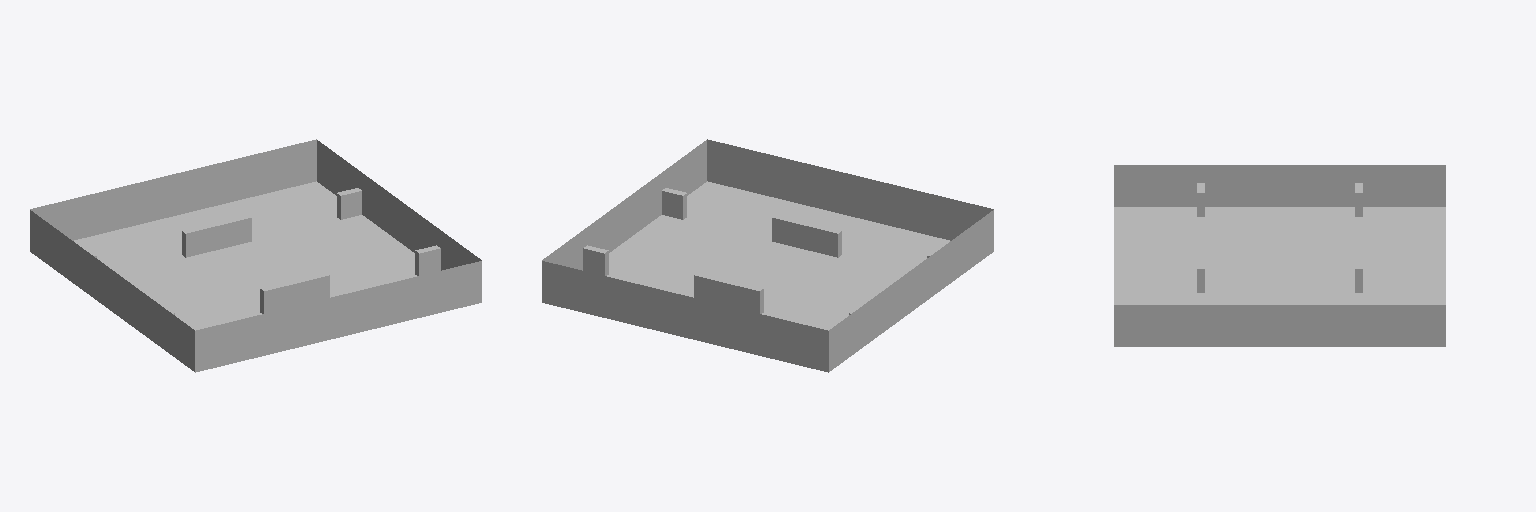
File: warsztaty.obj
The picture shows the model from 3 angles: view 1: azimuth 30°, elevation 25°; view 2: azimuth 150°, elevation 25°; view 3: azimuth 270°, elevation 25°; orthographic projection.
Parts seen in each view (by area): view 1: Plane_Plane.002; view 2: Plane_Plane.002; view 3: Plane_Plane.002.
Part boxes in pixels (left/top/right/bottom): Plane_Plane.002: left=30, top=139, right=481, bottom=372; Plane_Plane.002: left=542, top=139, right=993, bottom=372; Plane_Plane.002: left=1114, top=165, right=1445, bottom=346.
Size of the model in its own units: 25 by 3.5 by 25.